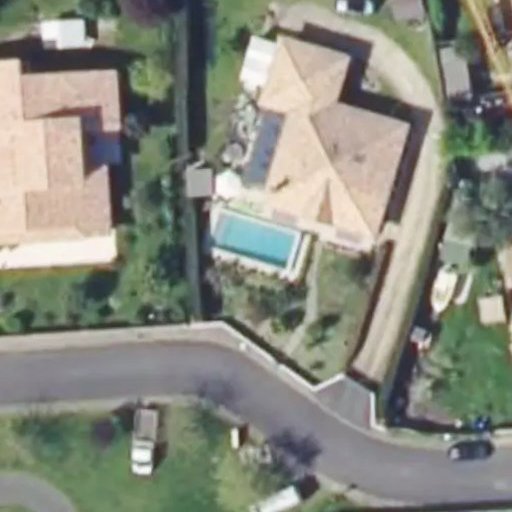pool: (208, 212, 303, 271)
